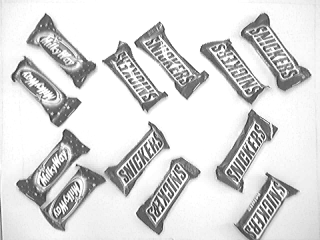Milkyway: (15, 127, 93, 207), (24, 10, 98, 91), (9, 54, 84, 131), (38, 163, 108, 234)
Snickers: (132, 19, 211, 102), (238, 11, 314, 93), (213, 107, 280, 196), (133, 153, 202, 237), (198, 35, 273, 108), (100, 39, 171, 115), (102, 120, 171, 198), (232, 171, 302, 240)
